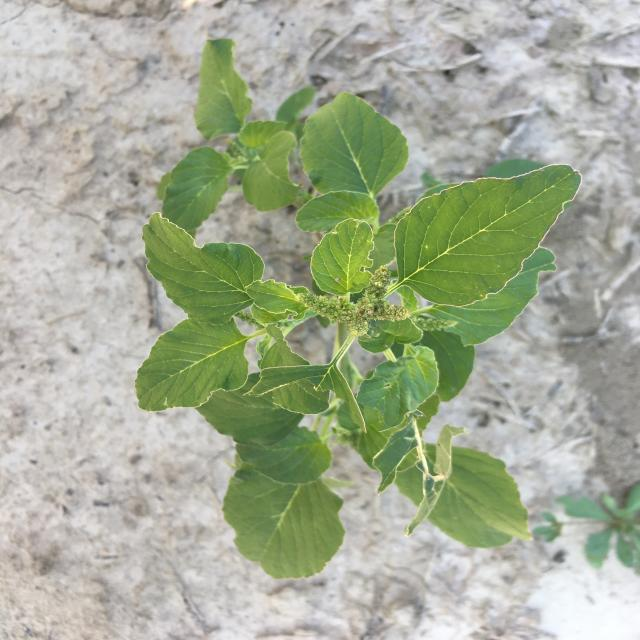PalmerAmaranth: (135, 36, 583, 581)
